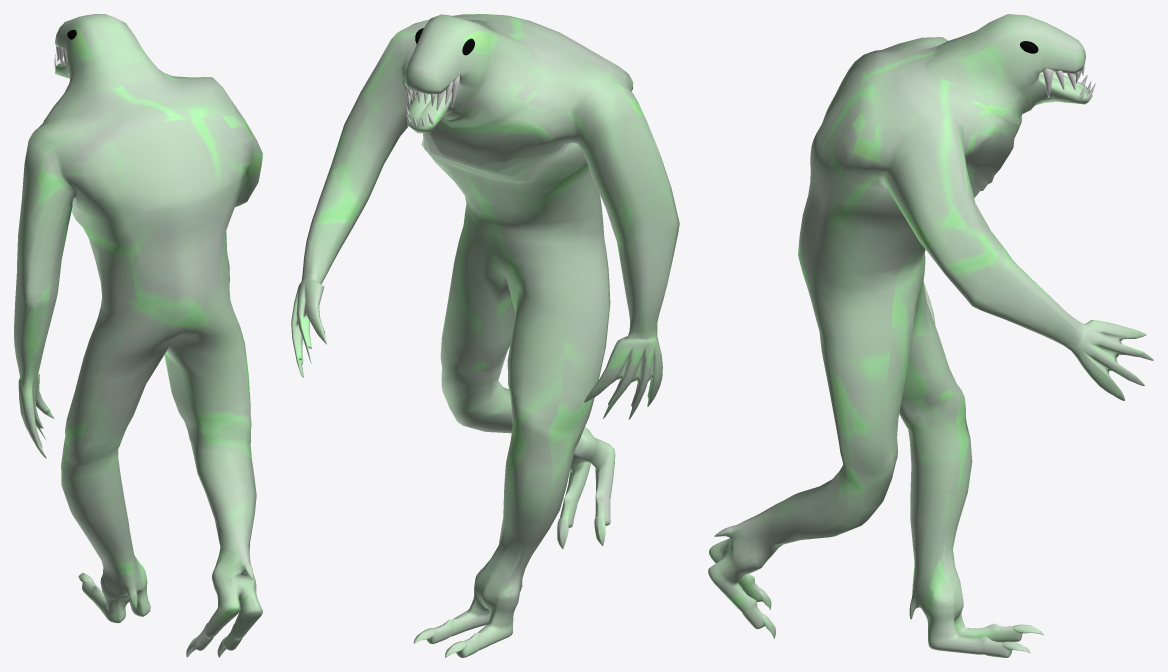
The model's file is Berserkerandar.0048.obj.
3 views of the same model, side by side, from view 1: azimuth 30°, elevation 25°; view 2: azimuth 150°, elevation 25°; view 3: azimuth 270°, elevation 25° (orthographic). The views are drawn at different scales.
Parts seen in each view (by area): view 1: polySurface27; view 2: polySurface27; view 3: polySurface27.
Boxes of the visible parts, x1=… form: polySurface27: x1=14, y1=14, x2=262, y2=657; polySurface27: x1=291, y1=14, x2=679, y2=657; polySurface27: x1=708, y1=14, x2=1153, y2=657.
Bounding box in the file's own units: 11.36 × 23.35 × 14.94.
Materials: 1 (1 with a texture image).
